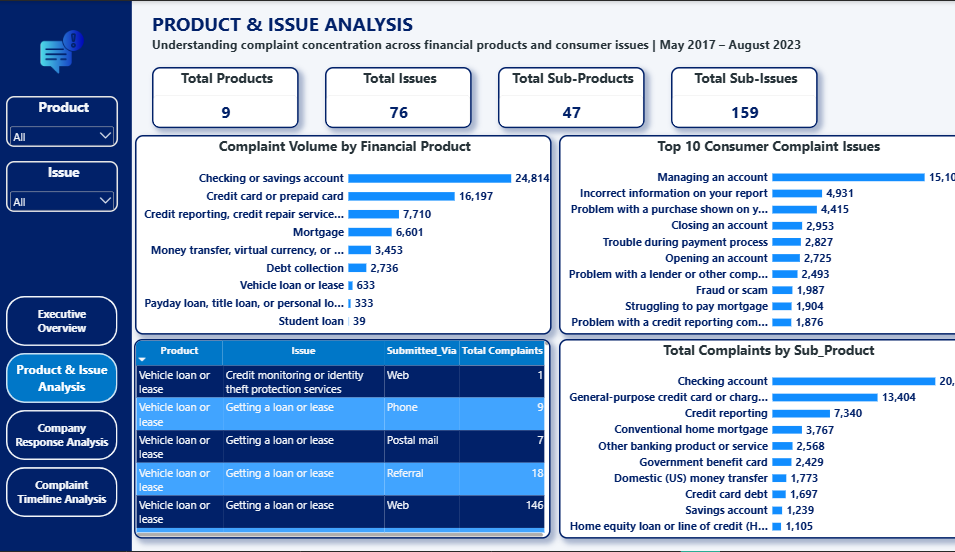

Layout of this report page (visuals, bound fields, positions):
{"tool":"powerbi","page":{"name":"Product & Issue Analysis","canvas":[1920,1080],"ordinal":1},"visuals":[{"type":"textbox","box":[302,0,1287.2,112.4],"z":0},{"type":"cardVisual","title":"Total Products","fields":{"Data":["KPI Measures.Total Products"]},"box":[303,128.7,288,120],"z":1000},{"type":"cardVisual","title":"Total Issues","fields":{"Data":["KPI Measures.Total Issues"]},"box":[642.7,128.7,288,120],"z":2000},{"type":"cardVisual","title":"Total Sub-Products","fields":{"Data":["KPI Measures.Total Sub-Products"]},"box":[982.3,128.7,288,120],"z":3000},{"type":"cardVisual","title":"Total Sub-Issues","fields":{"Data":["KPI Measures.Total Sub-issues"]},"box":[1322,128.7,288,120],"z":4000},{"type":"clusteredBarChart","title":"Complaint Volume by Financial Product","fields":{"Category":["consumer_complaints_analytics complaints.Product"],"Y":["KPI Measures.Total Complaints"]},"box":[268.9,262.3,817.7,392.3],"z":5000},{"type":"shape","box":[0,0,262.8,1080.7],"z":6000},{"type":"slicer","title":"Product","fields":{"Values":["consumer_complaints_analytics complaints.Product"]},"box":[16,187,220,100],"z":7000},{"type":"slicer","title":"Issue","fields":{"Values":["consumer_complaints_analytics complaints.Issue"]},"box":[16,314,220,100],"z":8000},{"type":"clusteredBarChart","title":"Top 10 Consumer Complaint Issues","fields":{"Category":["consumer_complaints_analytics complaints.Issue"],"Y":["KPI Measures.Total Complaints"]},"box":[1102,262.3,817.7,392],"z":9000},{"type":"tableEx","fields":{"Values":["consumer_complaints_analytics complaints.Product","consumer_complaints_analytics complaints.Issue","consumer_complaints_analytics complaints.Submitted_Via","KPI Measures.Total Complaints"]},"box":[268,663.4,817.7,392.3],"z":10000},{"type":"clusteredBarChart","fields":{"Category":["consumer_complaints_analytics complaints.Sub_Product"],"Y":["KPI Measures.Total Complaints"]},"box":[1102,663.4,817.7,392.3],"z":11000},{"type":"pageNavigator","box":[16.1,579.2,219.9,437.1],"z":12000},{"type":"image","box":[74.9,50.7,100,100],"z":12001}]}

Visuals, with their boxes in screenshot pixels (x1, y1, x2, y2):
textbox: (left=149, top=0, right=803, bottom=57)
"Total Products" cardVisual: (left=149, top=65, right=296, bottom=126)
"Total Issues" cardVisual: (left=322, top=65, right=468, bottom=126)
"Total Sub-Products" cardVisual: (left=495, top=65, right=641, bottom=126)
"Total Sub-Issues" cardVisual: (left=667, top=65, right=814, bottom=126)
"Complaint Volume by Financial Product" clusteredBarChart: (left=132, top=133, right=548, bottom=333)
shape: (left=0, top=0, right=129, bottom=550)
"Product" slicer: (left=3, top=95, right=115, bottom=146)
"Issue" slicer: (left=3, top=160, right=115, bottom=211)
"Top 10 Consumer Complaint Issues" clusteredBarChart: (left=555, top=133, right=954, bottom=333)
tableEx - consumer_complaints_analytics complaints.Product x consumer_complaints_analytics complaints.Issue: (left=131, top=337, right=547, bottom=537)
clusteredBarChart - consumer_complaints_analytics complaints.Sub_Product x KPI Measures.Total Complaints: (left=555, top=337, right=954, bottom=537)
pageNavigator: (left=3, top=295, right=115, bottom=517)
image: (left=33, top=26, right=84, bottom=77)
